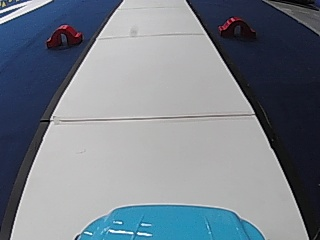bridge: (216, 13, 257, 40), (44, 22, 83, 49)
